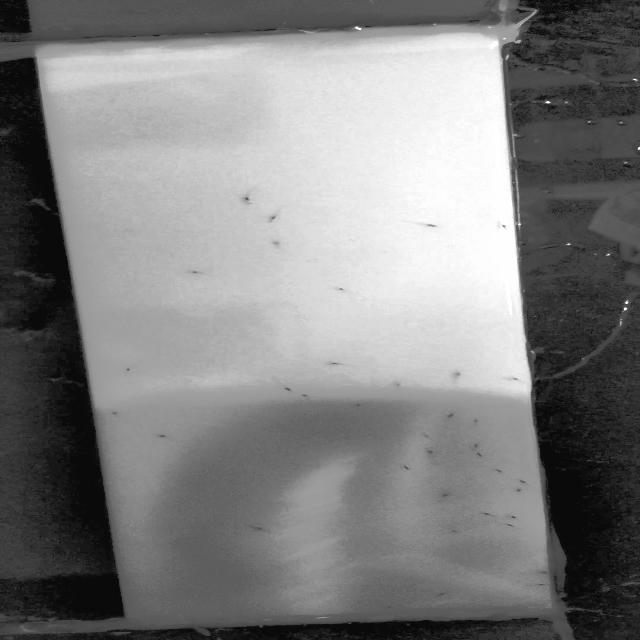shrimp: (417, 215, 448, 237), (174, 264, 208, 284), (236, 522, 276, 536), (257, 235, 292, 250), (411, 446, 446, 459), (232, 190, 260, 206), (114, 362, 140, 378), (381, 379, 415, 390), (254, 213, 290, 223), (150, 430, 177, 443), (370, 602, 409, 611), (429, 588, 458, 600), (438, 408, 462, 422), (470, 507, 500, 518), (462, 452, 494, 462), (397, 461, 418, 476), (430, 489, 458, 500), (497, 521, 525, 532), (322, 358, 344, 371), (343, 399, 370, 409), (106, 408, 130, 419), (296, 389, 316, 402), (448, 369, 468, 382), (468, 439, 488, 452), (272, 382, 295, 393), (329, 284, 350, 296), (509, 485, 528, 498), (530, 579, 552, 590), (444, 526, 468, 536), (515, 478, 536, 489), (485, 466, 513, 474), (501, 375, 523, 385), (532, 566, 550, 578), (468, 416, 494, 424), (508, 512, 525, 522)
